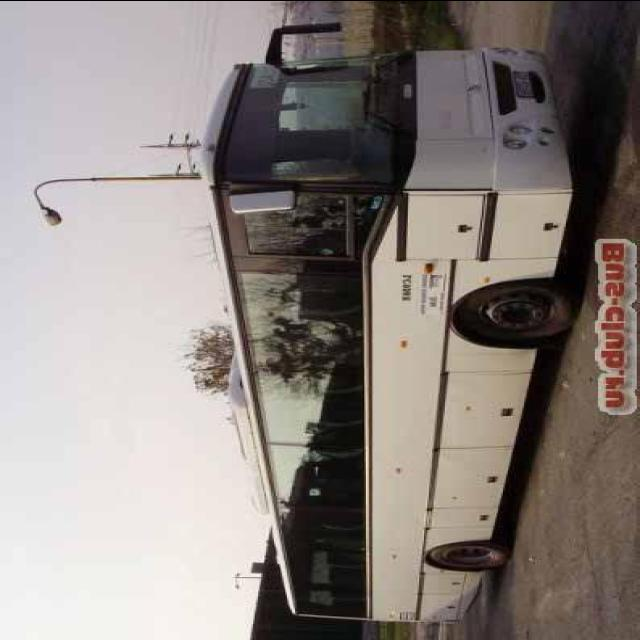bus: (192, 17, 590, 624)
